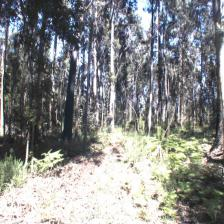trunktrack_idkeyframe: (62, 74, 75, 140)
